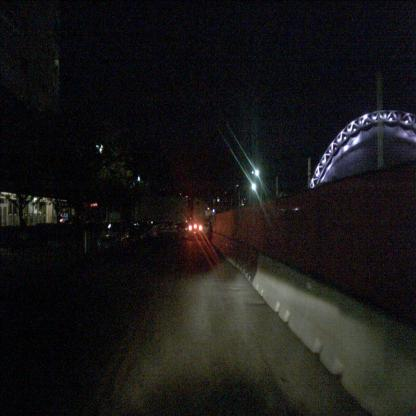barrier: (252, 249, 416, 412), (238, 242, 259, 284), (211, 230, 230, 257), (225, 240, 242, 269)
